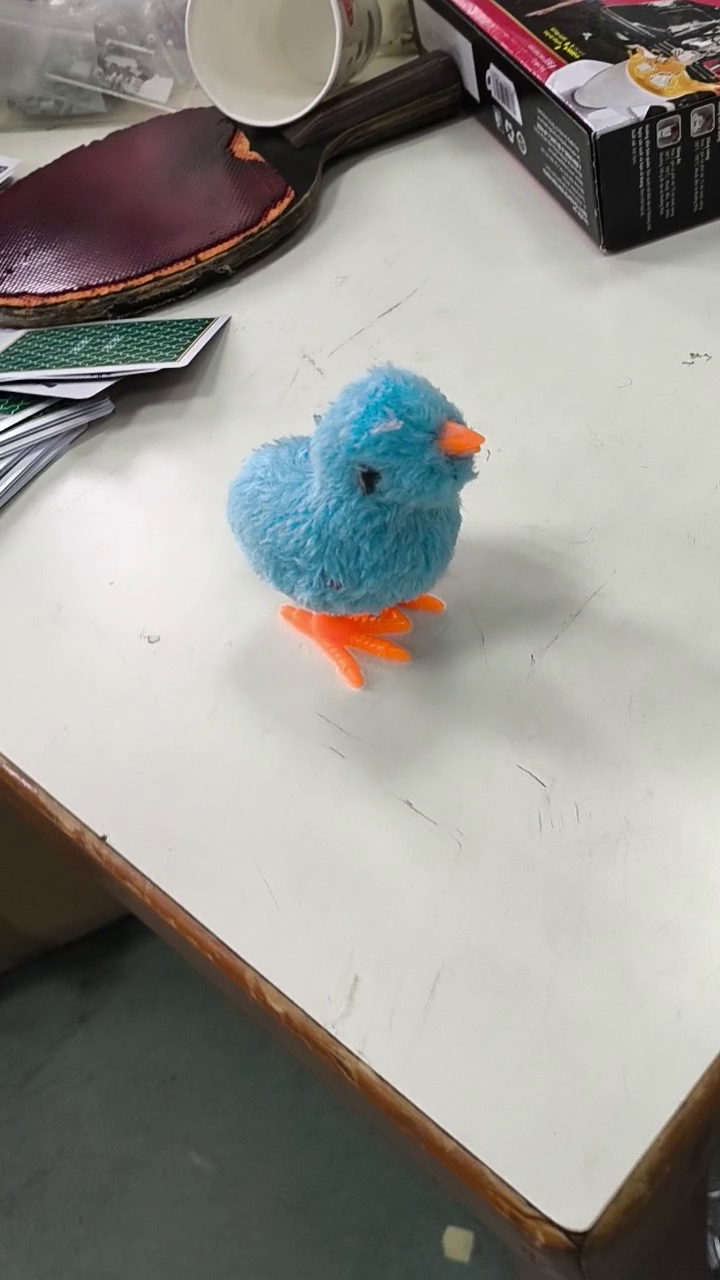blue chicken: (222, 359, 494, 700)
